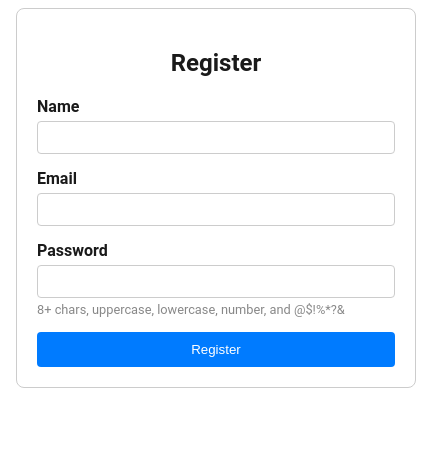
Register › shows validation error for short passwords
The width and height of the screenshot is (433, 455).
Type "John" into the field labelled "Name" at (216, 137), box 37,121 -> 395,154
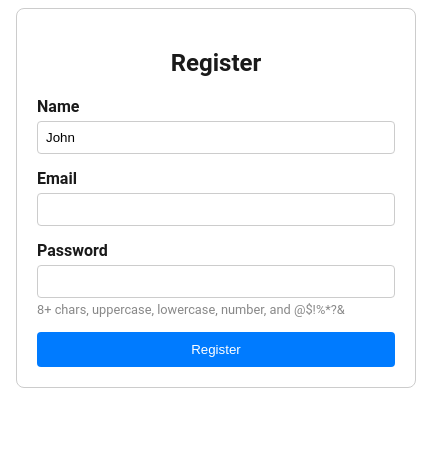
Type "j@t.com" into the field labelled "Email" at (216, 209), box 37,193 -> 395,226
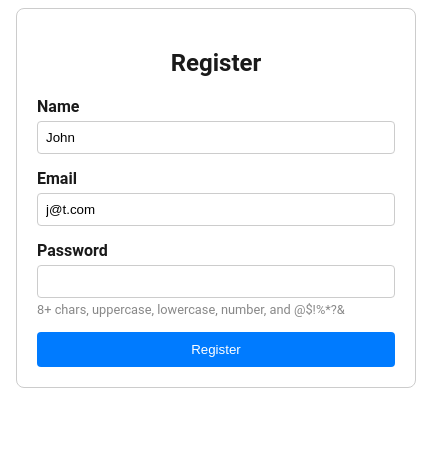
Type "short" into the password field labelled "Password" at (216, 281), box 37,265 -> 395,298
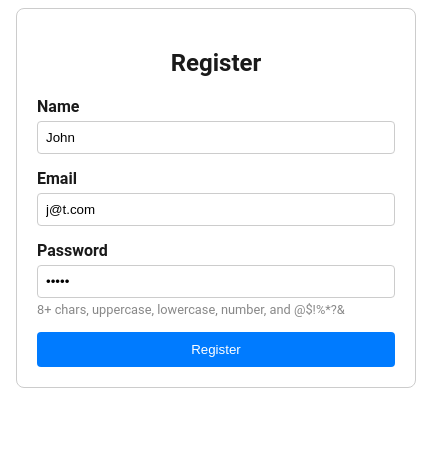
Click the button "Register" at (216, 349), box 37,332 -> 395,367
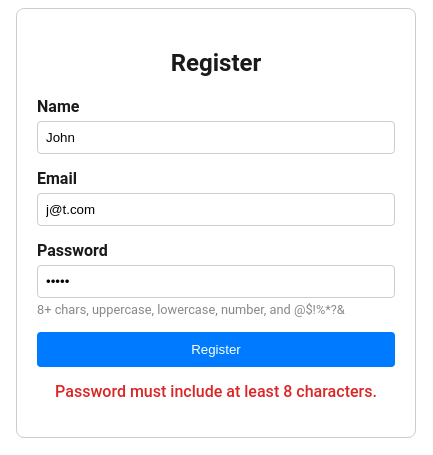
Expected: the text "Password must include at least 8 characters." is shown, 37,382 -> 395,401
